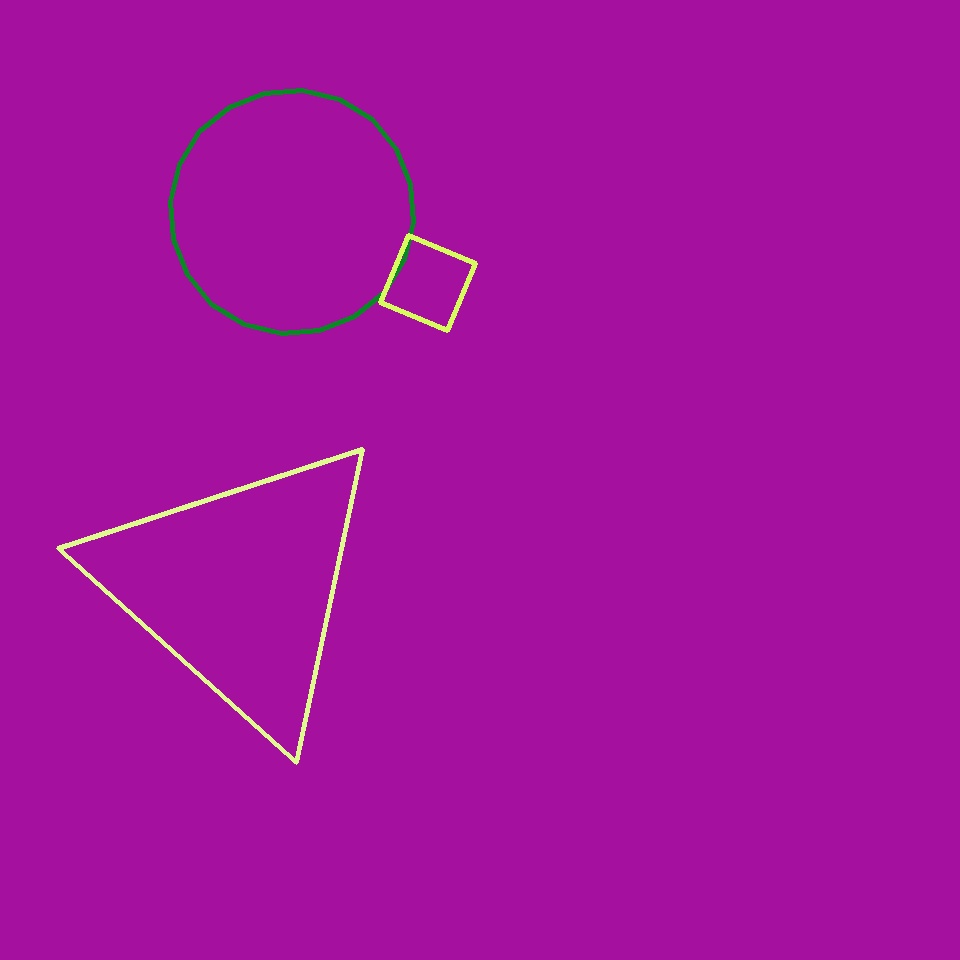circle: (87, 430, 391, 744)
square: (380, 236, 476, 330)
triangle: (170, 90, 413, 334)
